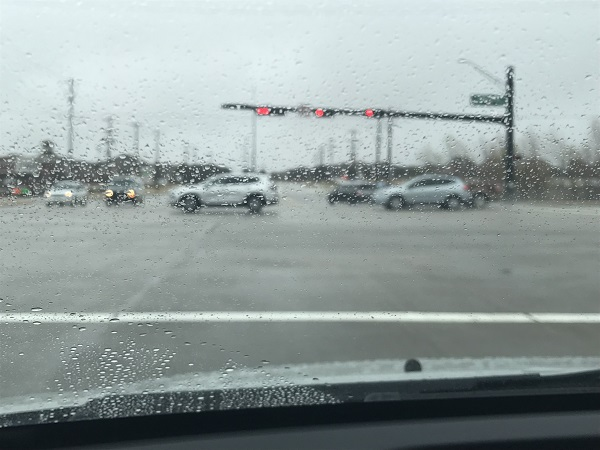car: (166, 169, 275, 211), (370, 175, 468, 212), (101, 175, 144, 206), (44, 179, 88, 204)
